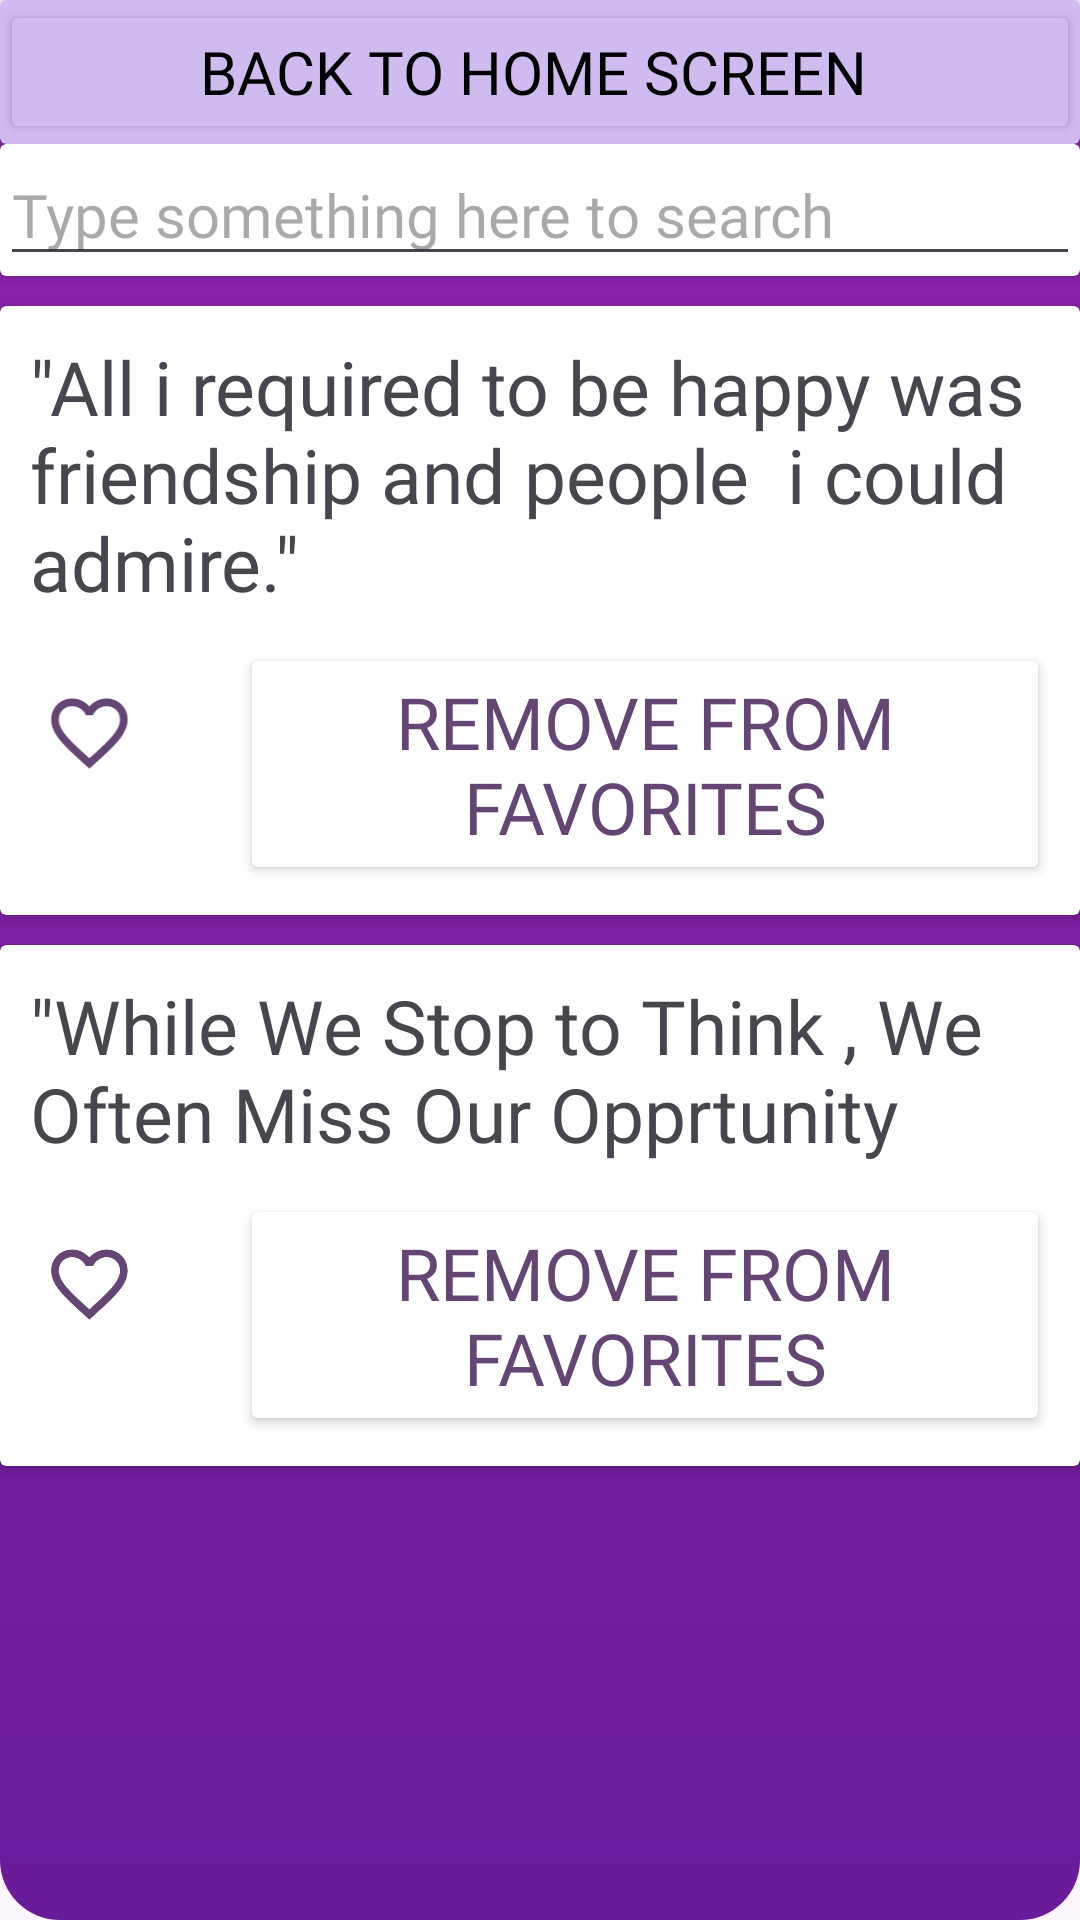

Icon bounding boxes for this 1080 x 1920 phone screenshot, format bbox=[x1, y1, x2, y2]:
favorite border: bbox=[51, 698, 128, 769], bbox=[51, 1249, 128, 1320]
